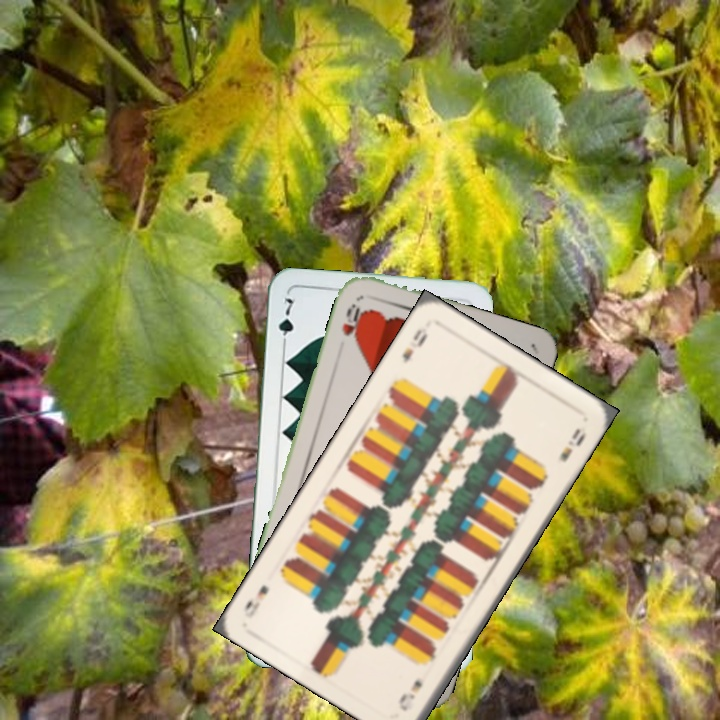E9: (398, 324, 430, 365), (394, 675, 426, 714)
G7: (274, 293, 296, 351)
HO: (337, 299, 367, 346)
